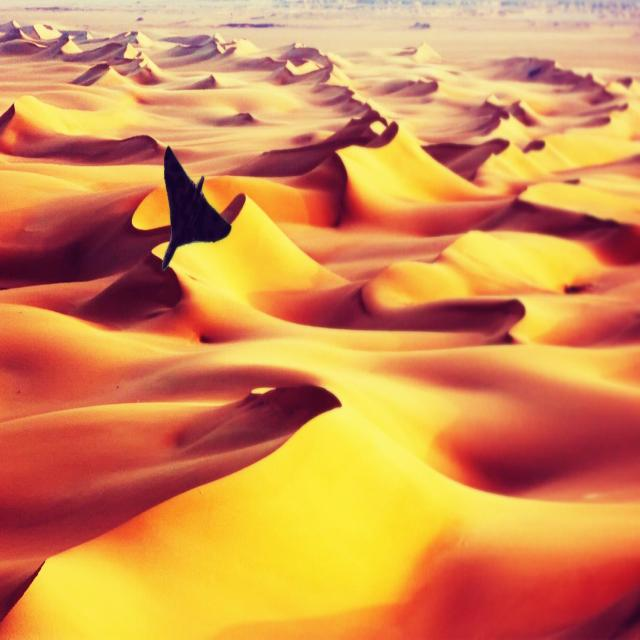airplane: (160, 142, 233, 267)
